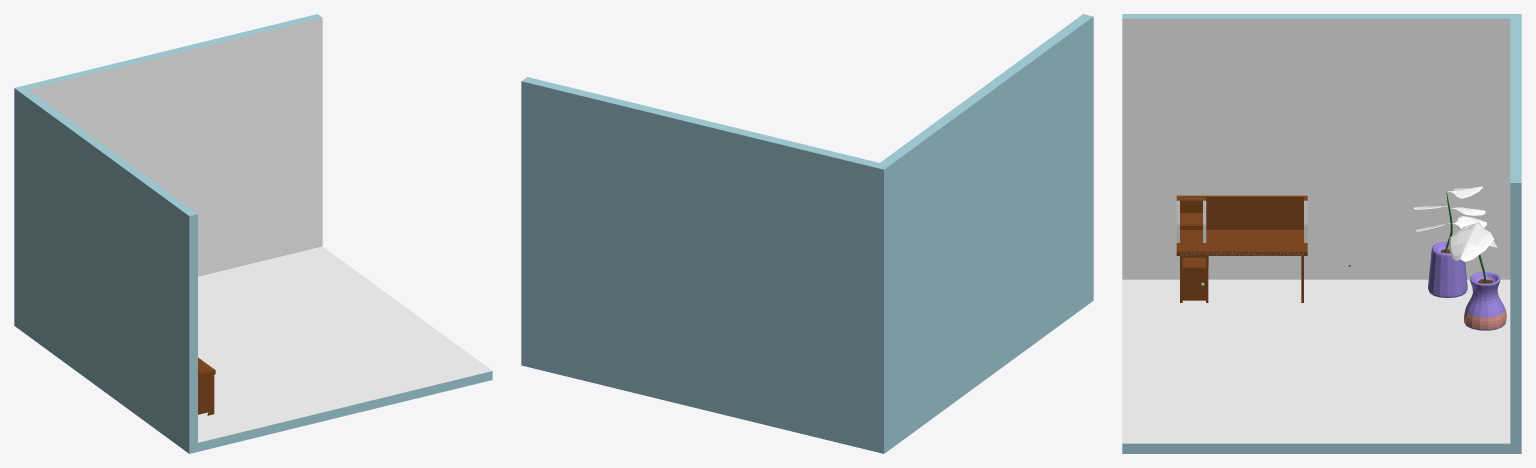
The model's file is room.glb.
3 views of the same model, side by side, from view 1: azimuth 30°, elevation 25°; view 2: azimuth 150°, elevation 25°; view 3: azimuth 270°, elevation 25° (orthographic). The views are drawn at different scales.
Visible parts, largest first — view 1: Cube.001, Cube; view 2: Cube.001; view 3: Cube.001, Cube, Cube.003, Cube.002, BezierCurve.006, BezierCurve.008.
Part boxes in pixels (box(x1,y1,x2,y2)): Cube.001: box(14, 14, 492, 453); Cube: box(198, 357, 215, 415); Cube.001: box(521, 14, 1093, 453); Cube.001: box(1122, 14, 1521, 453); Cube: box(1176, 195, 1307, 302); Cube.003: box(1464, 272, 1506, 330); Cube.002: box(1428, 241, 1467, 297); BezierCurve.006: box(1448, 221, 1497, 282); BezierCurve.008: box(1412, 186, 1486, 252).
Bounding box in the file's own units: 15.56 × 11.65 × 15.56.
